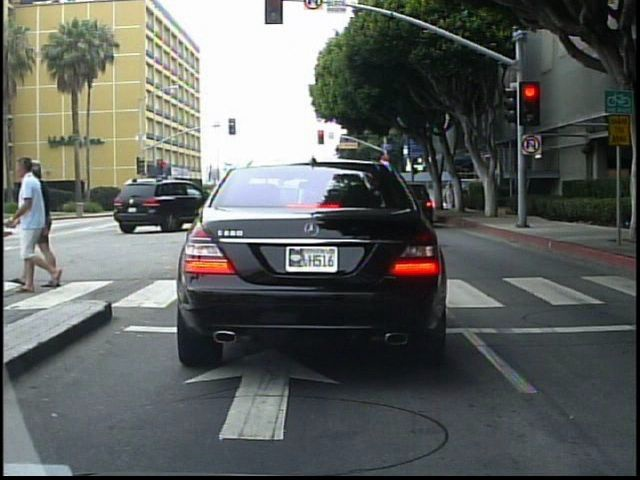person: (16, 150, 75, 297), (31, 152, 60, 293), (443, 179, 455, 212)
